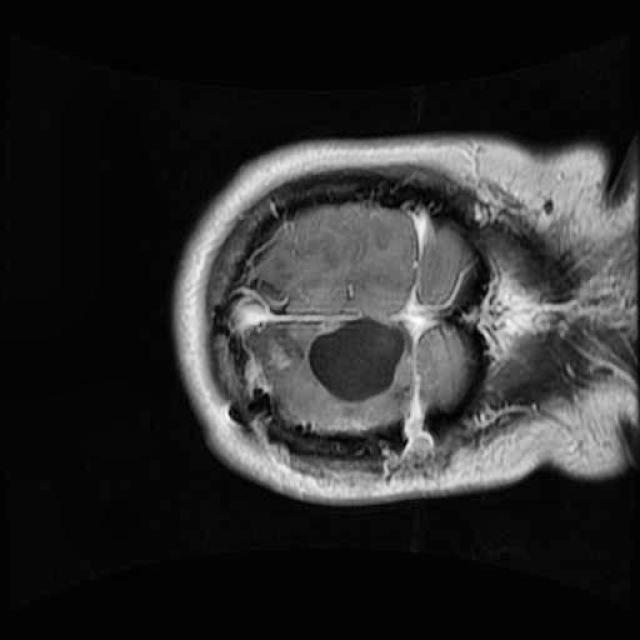Tumor: (293, 300, 431, 420)
